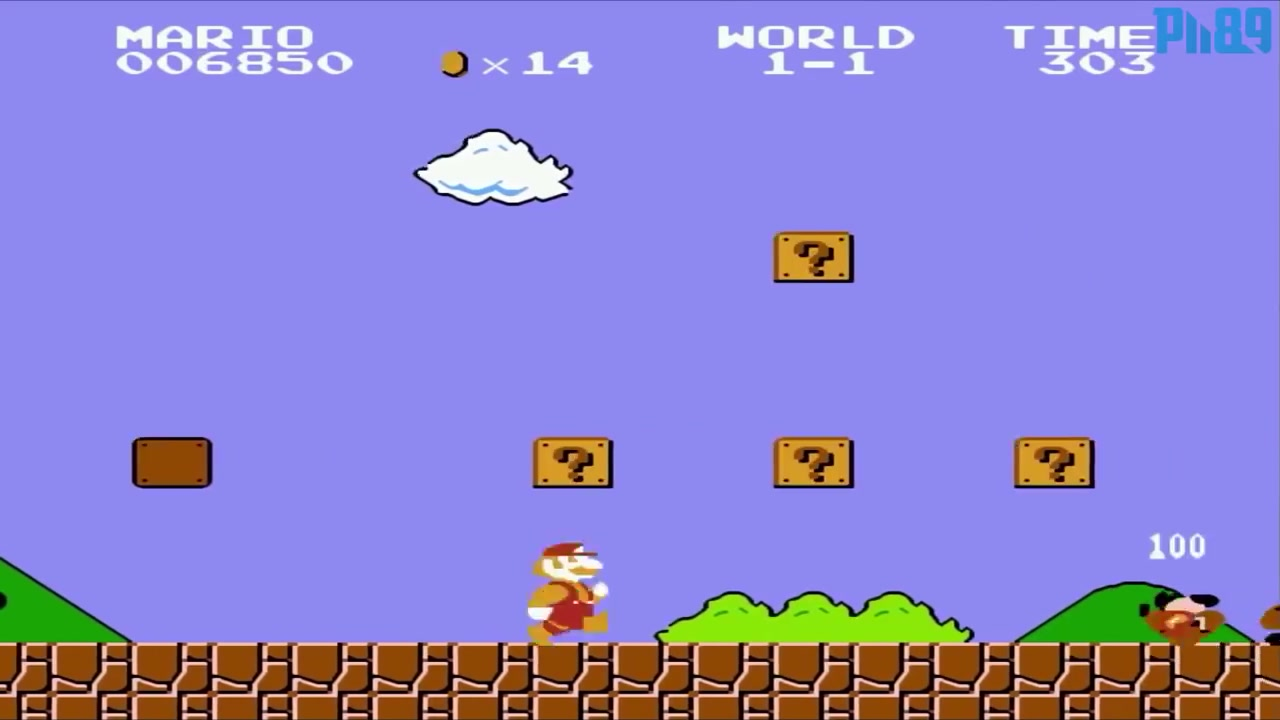mario: (511, 530, 627, 646)
